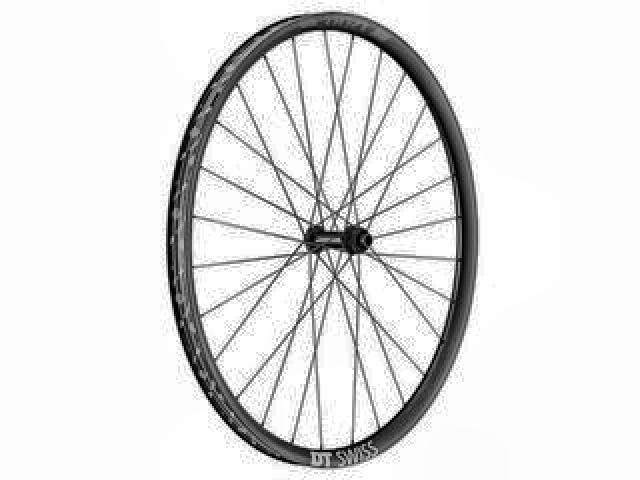wheel: (162, 6, 484, 471)
